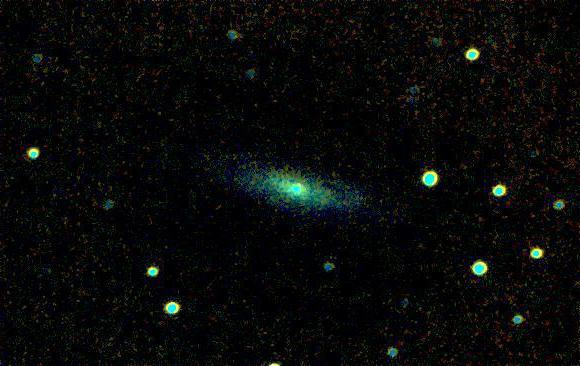star: (222, 164, 252, 194)
